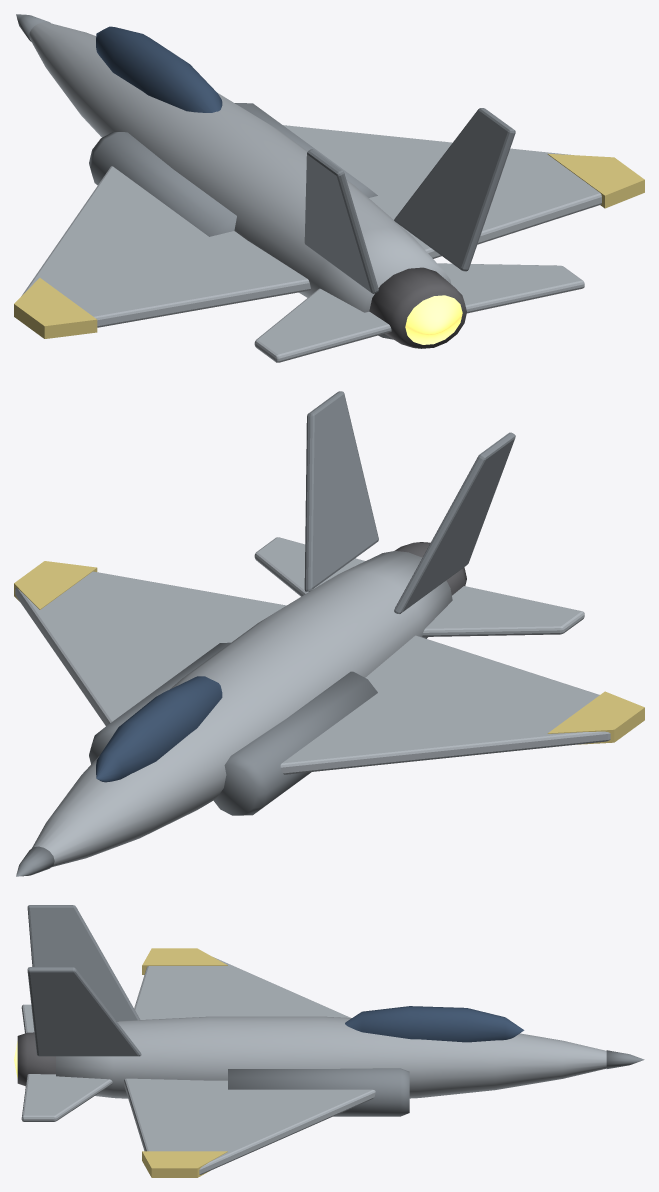
Rendered from ally_jet.glb.
3 renders of one model, top to bottom at view 1: azimuth 30°, elevation 25°; view 2: azimuth 150°, elevation 25°; view 3: azimuth 270°, elevation 25°, orthographic. The views are drawn at different scales.
Parts seen in each view (by area): view 1: Jet; view 2: Jet; view 3: Jet.
Part boxes in pixels (box(x1,y1,x2,y2)): Jet: box(14, 14, 644, 362); Jet: box(14, 391, 644, 876); Jet: box(14, 905, 644, 1177).
Size of the model in its own units: 2.72 by 0.9274 by 3.3.
